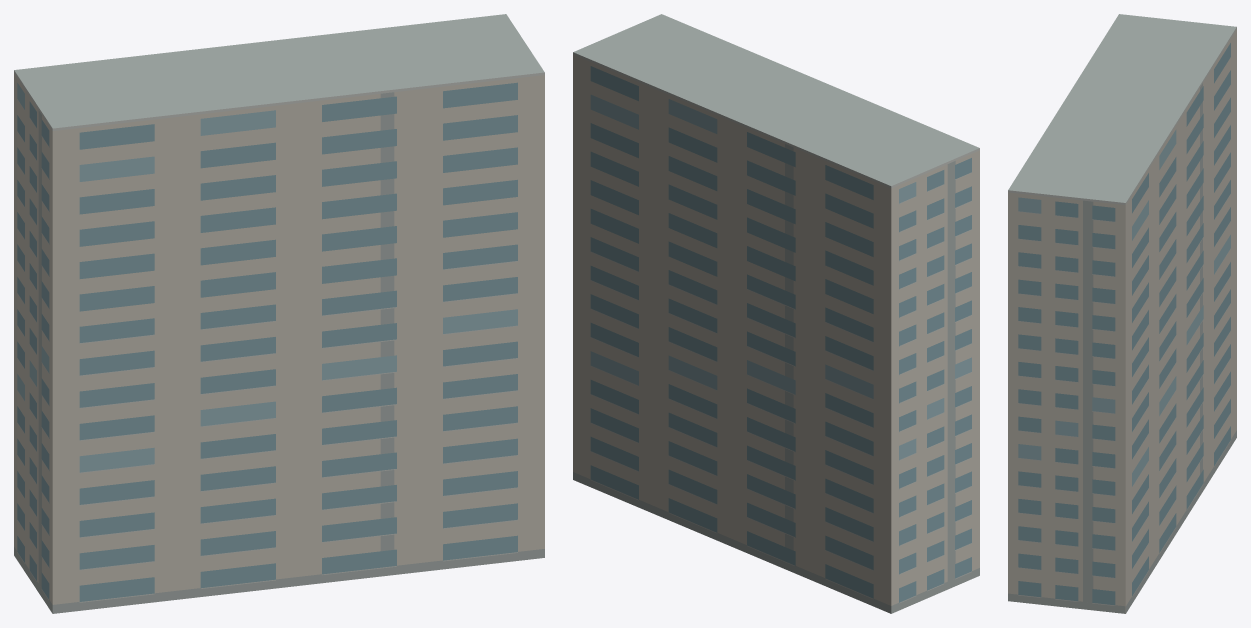
Rendered from residential-f0171c5c-9d74-4f73-87ea-5f7a6644cb4b.glb.
3 views of the same model, side by side, from view 1: azimuth 30°, elevation 25°; view 2: azimuth 150°, elevation 25°; view 3: azimuth 270°, elevation 25° (orthographic). The views are drawn at different scales.
Parts seen in each view (by area): view 1: residential-f0171c5c-9d74-4f73-87ea-5f7a6644cb4b.tmp; view 2: residential-f0171c5c-9d74-4f73-87ea-5f7a6644cb4b.tmp; view 3: residential-f0171c5c-9d74-4f73-87ea-5f7a6644cb4b.tmp.
Boxes of the visible parts, bbox=[...] form: residential-f0171c5c-9d74-4f73-87ea-5f7a6644cb4b.tmp: bbox=[14, 14, 544, 613]; residential-f0171c5c-9d74-4f73-87ea-5f7a6644cb4b.tmp: bbox=[573, 14, 979, 613]; residential-f0171c5c-9d74-4f73-87ea-5f7a6644cb4b.tmp: bbox=[1008, 14, 1236, 613].
Size of the model in its own units: 45.15 by 45.75 by 23.1.
